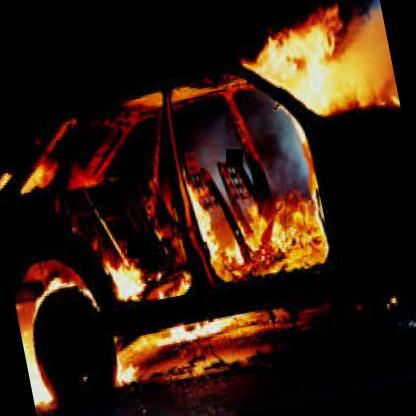fire: (29, 76, 333, 312), (256, 12, 399, 124)
